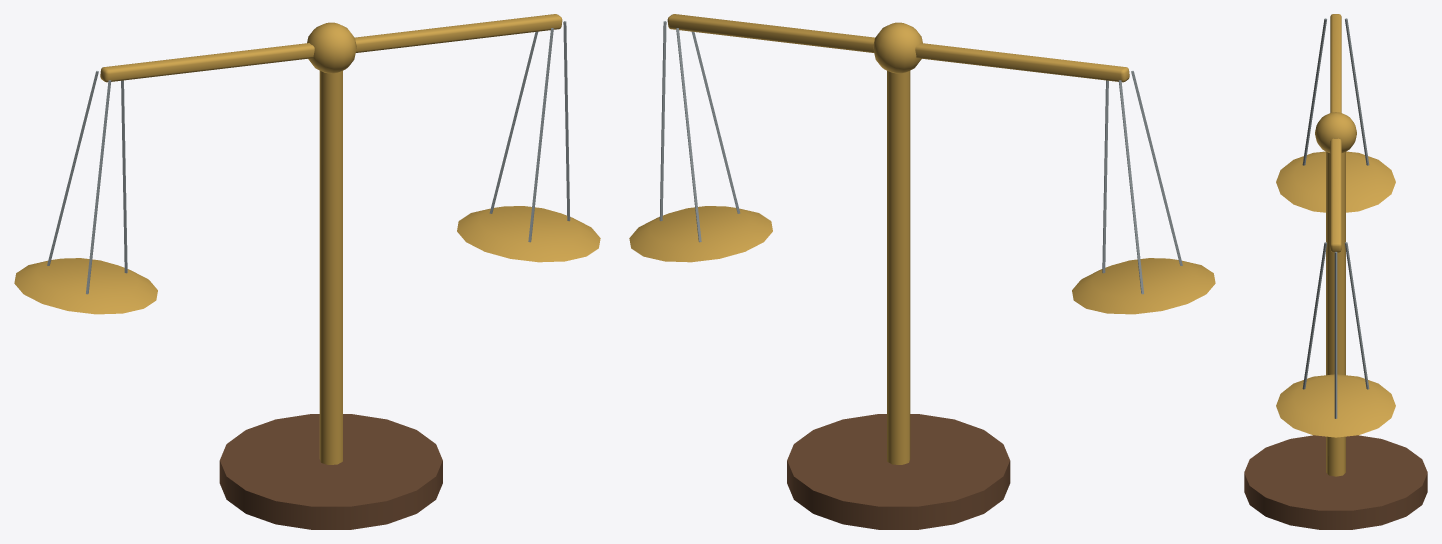
File: balance.glb
3 views of the same model, side by side, from view 1: azimuth 30°, elevation 25°; view 2: azimuth 150°, elevation 25°; view 3: azimuth 270°, elevation 25° (orthographic). The views are drawn at different scales.
Parts seen in each view (by area): view 1: stand, beam; view 2: stand, beam; view 3: stand, beam.
Part boxes in pixels (<box>): stand: <box>219,22,442,529</box>; beam: <box>14,14,600,314</box>; stand: <box>787,22,1010,529</box>; beam: <box>629,14,1215,314</box>; stand: <box>1244,112,1427,529</box>; beam: <box>1276,14,1395,437</box>.
Bounding box in the file's own units: 0.7645 × 0.6046 × 0.26.
